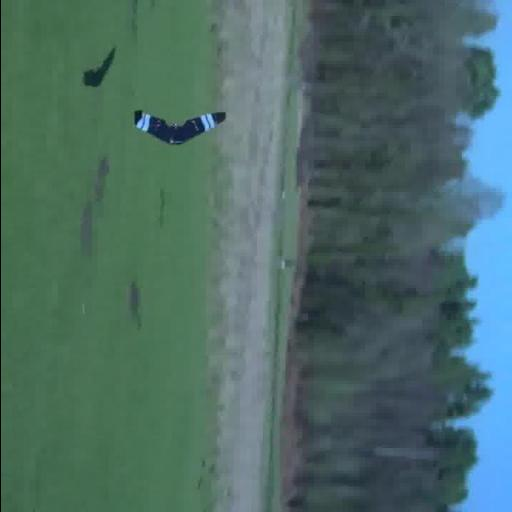uav: (123, 98, 233, 148)
